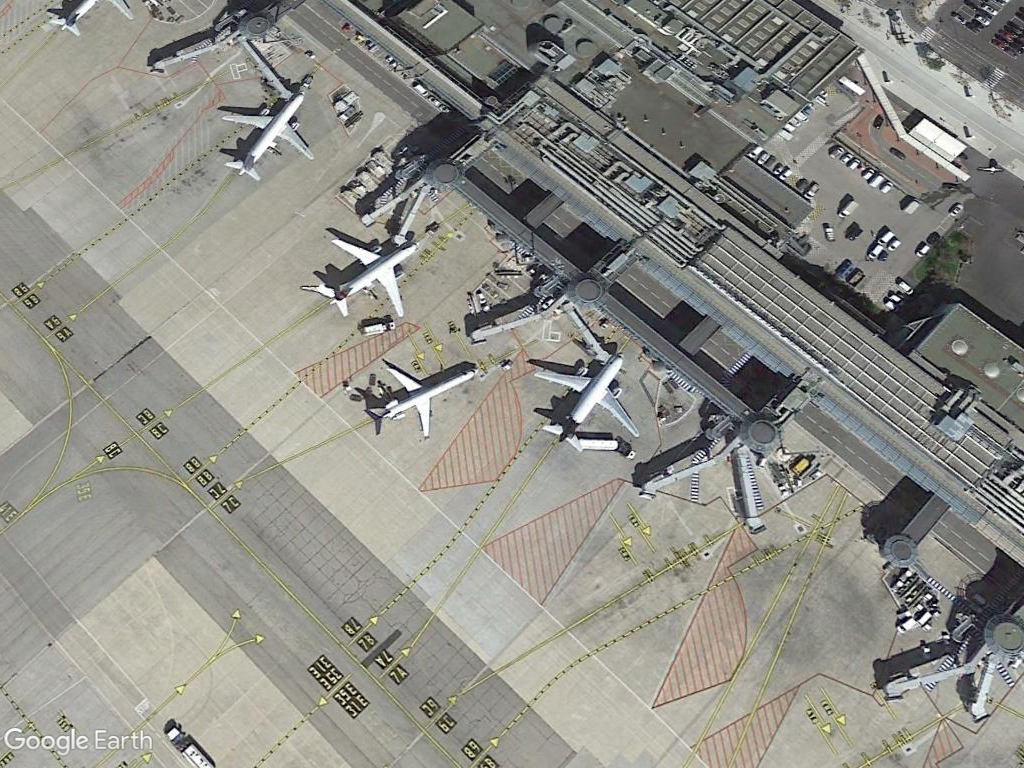airliner: (529, 348, 644, 456), (313, 228, 426, 325), (216, 81, 321, 184)
chartered: (367, 355, 484, 445)
